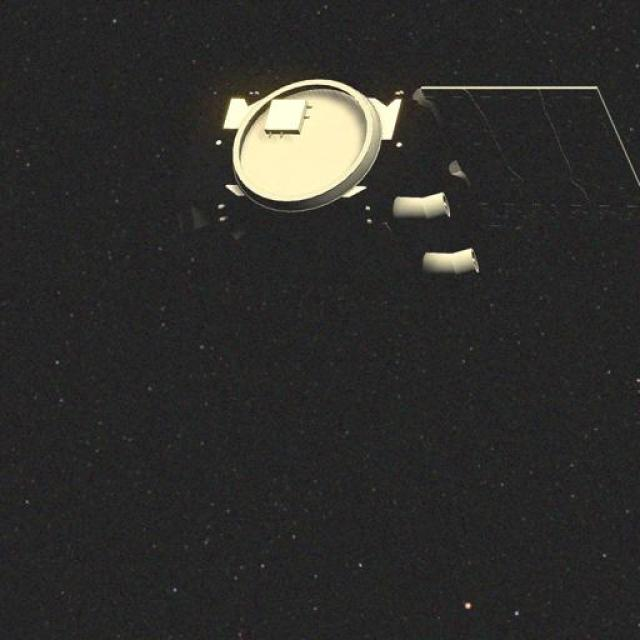proba_3_csc: (174, 78, 624, 304)
